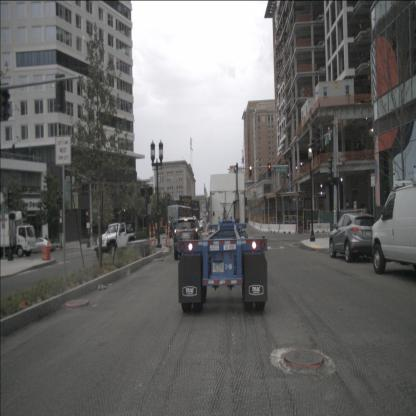movable_object-barrier: (279, 224, 296, 234), (42, 245, 51, 261), (314, 224, 330, 233), (268, 224, 280, 232), (260, 224, 269, 233), (248, 220, 254, 228), (254, 223, 260, 230)
movable_object-trafficcone: (148, 223, 153, 252), (152, 223, 157, 250), (167, 224, 172, 248), (164, 223, 168, 248), (306, 218, 309, 234), (296, 222, 299, 236)
vehicle-bus-rigid: (166, 205, 192, 238)
vehicle-car: (370, 165, 416, 275), (330, 212, 380, 263), (94, 222, 136, 260), (174, 215, 202, 260), (32, 237, 56, 253), (197, 220, 205, 233)
vehicle-truck: (178, 173, 268, 313), (0, 210, 36, 258)
